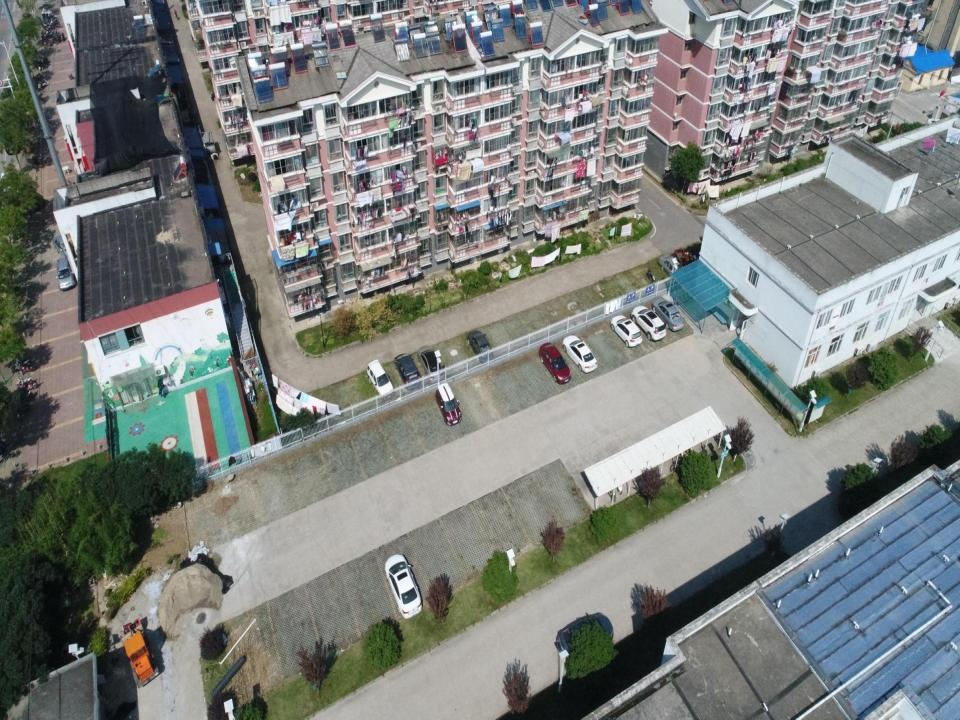car: (555, 612, 614, 667), (384, 552, 423, 620), (538, 340, 572, 385), (562, 333, 598, 374), (630, 304, 667, 341), (366, 357, 395, 401), (435, 380, 462, 426), (651, 296, 685, 332), (610, 314, 643, 349), (3, 109, 28, 155), (466, 329, 496, 367), (416, 345, 445, 383), (394, 352, 421, 391), (0, 169, 21, 216), (658, 252, 685, 277), (52, 233, 76, 261)
van: (57, 256, 76, 291)
